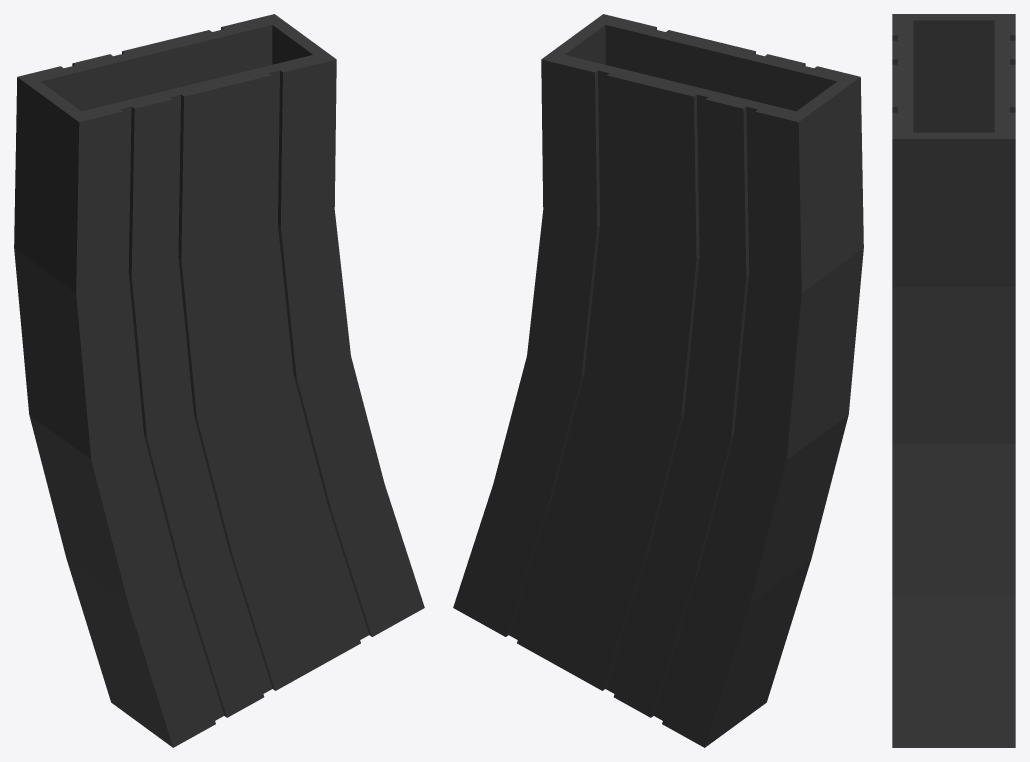
The model's file is SM_AssaultRifle4_01_2.glb.
The picture shows the model from 3 angles, left to right: view 1: azimuth 30°, elevation 25°; view 2: azimuth 150°, elevation 25°; view 3: azimuth 270°, elevation 25°; orthographic projection.
Parts seen in each view (by area): view 1: SM_AssaultRifle4_01_2; view 2: SM_AssaultRifle4_01_2; view 3: SM_AssaultRifle4_01_2.
Part boxes in pixels (bbox=[...]): SM_AssaultRifle4_01_2: bbox=[14, 14, 424, 747]; SM_AssaultRifle4_01_2: bbox=[453, 14, 863, 747]; SM_AssaultRifle4_01_2: bbox=[892, 14, 1015, 747].
Size of the model in its own units: 0.0878 by 0.1561 by 0.0271.
Materials: 1 (1 with a texture image).
